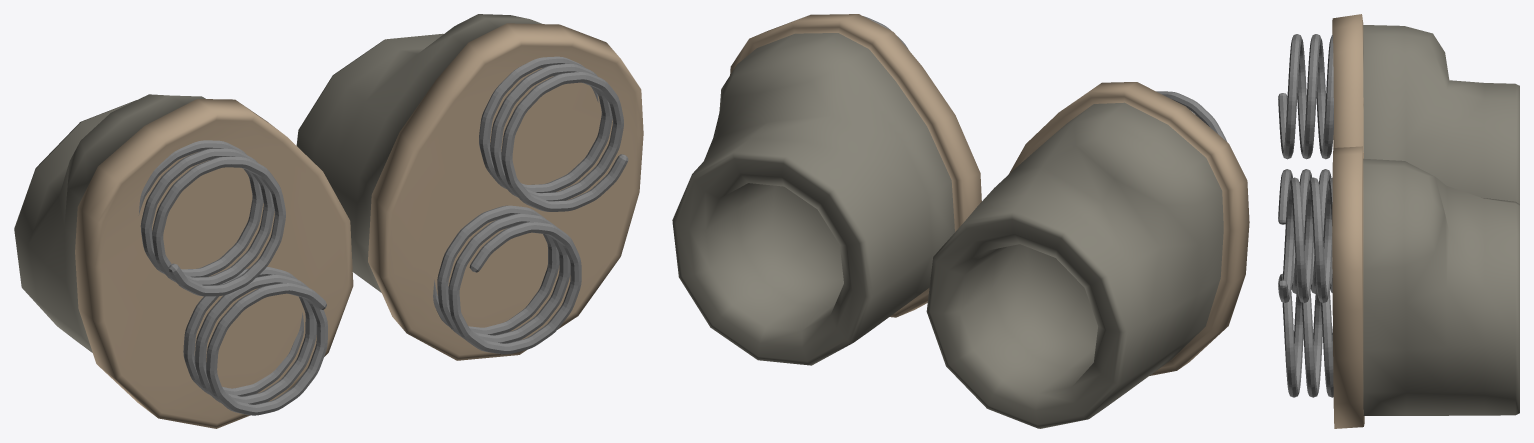
File: GiftShoes.fbx
3 renders of one model, left to right at view 1: azimuth 30°, elevation 25°; view 2: azimuth 150°, elevation 25°; view 3: azimuth 270°, elevation 25°, orthographic. The views are drawn at different scales.
Parts seen in each view (by area): view 1: Body.001; view 2: Body.001; view 3: Body.001.
Boxes of the visible parts, x1,y1,x2,y2 form: Body.001: [14, 14, 643, 428]; Body.001: [672, 14, 1249, 428]; Body.001: [1278, 14, 1519, 428].
Size of the model in its own units: 55.62 by 69.49 by 126.
1 material, 1 textured.
